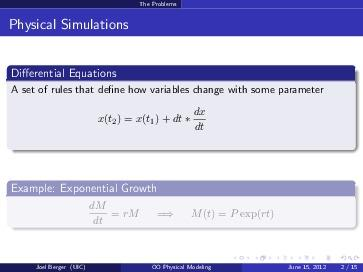paragraph: (7, 82, 353, 151), (36, 199, 341, 240)
subtitle: (8, 176, 164, 197), (6, 61, 123, 83)
title: (6, 12, 137, 40)
